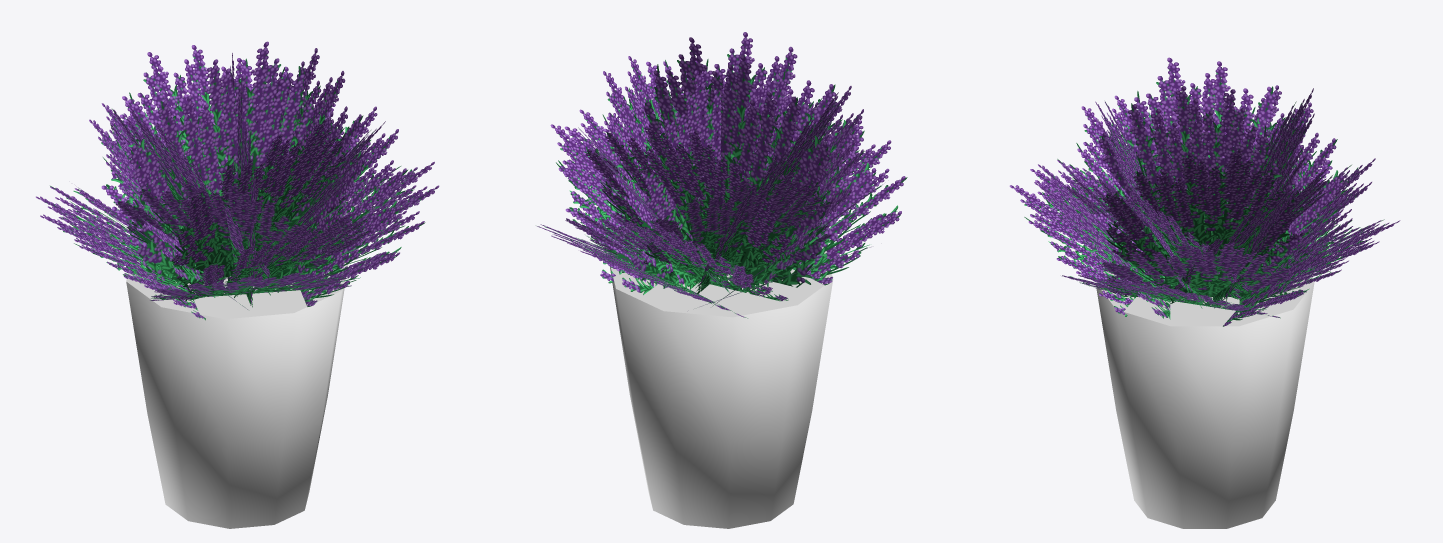
Rendered from Plant_round.fbx.
3 renders of one model, left to right at view 1: azimuth 30°, elevation 25°; view 2: azimuth 150°, elevation 25°; view 3: azimuth 270°, elevation 25°, orthographic. The views are drawn at different scales.
Visible parts, largest first — view 1: Pot_1_low; view 2: Pot_1_low; view 3: Pot_1_low.
Boxes of the visible parts, <box> form: Pot_1_low: <box>36,41,439,528</box>; Pot_1_low: <box>537,32,907,528</box>; Pot_1_low: <box>1009,57,1400,528</box>.
Bounding box in the file's own units: 4.34 × 4.65 × 4.34.
Materials: 2 (1 with a texture image).
